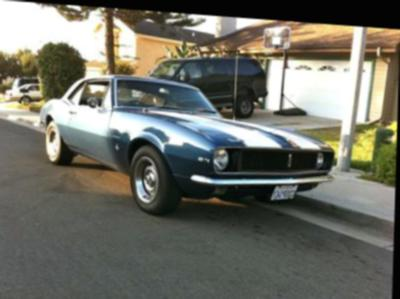License_Plate: (269, 181, 301, 205)
